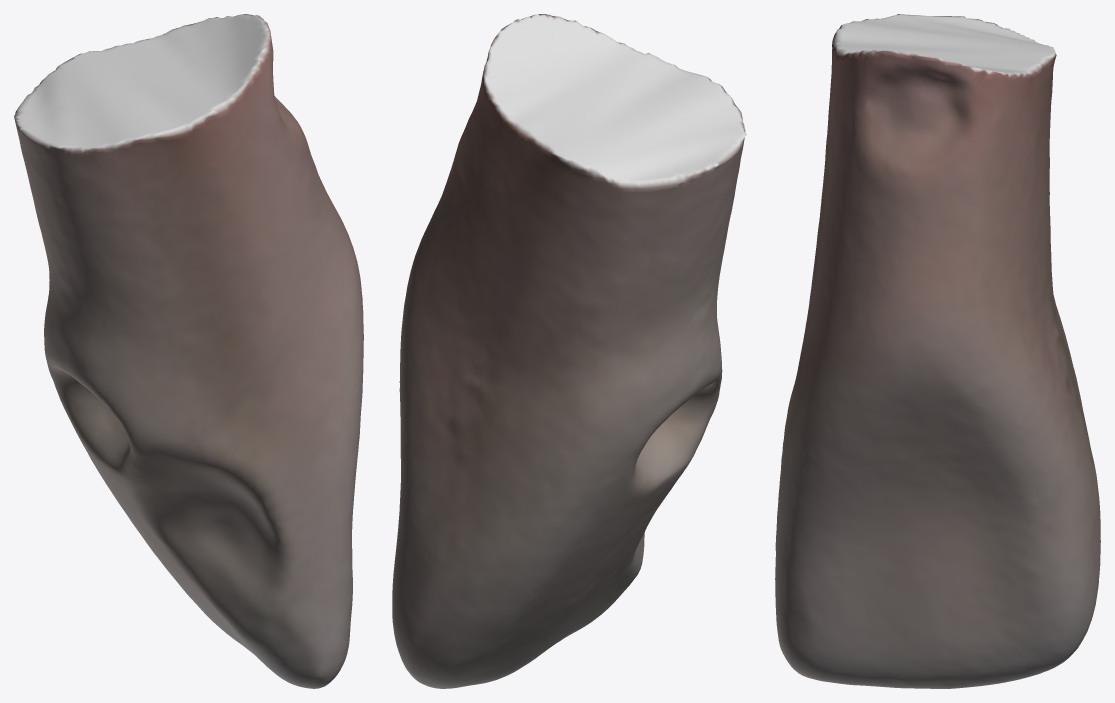
The model's file is PC Clase III - V - Corte Oclusal.glb.
The picture shows the model from 3 angles, left to right: view 1: azimuth 30°, elevation 25°; view 2: azimuth 150°, elevation 25°; view 3: azimuth 270°, elevation 25°; orthographic projection. The views are drawn at different scales.
Parts seen in each view (by area): view 1: Clase III - V - Corte Oclusal; view 2: Clase III - V - Corte Oclusal; view 3: Clase III - V - Corte Oclusal.
Boxes of the visible parts, x1=… form: Clase III - V - Corte Oclusal: x1=14, y1=14, x2=363, y2=688; Clase III - V - Corte Oclusal: x1=392, y1=14, x2=746, y2=688; Clase III - V - Corte Oclusal: x1=775, y1=14, x2=1100, y2=688.
Size of the model in its own units: 3.51 by 6.84 by 3.21.
